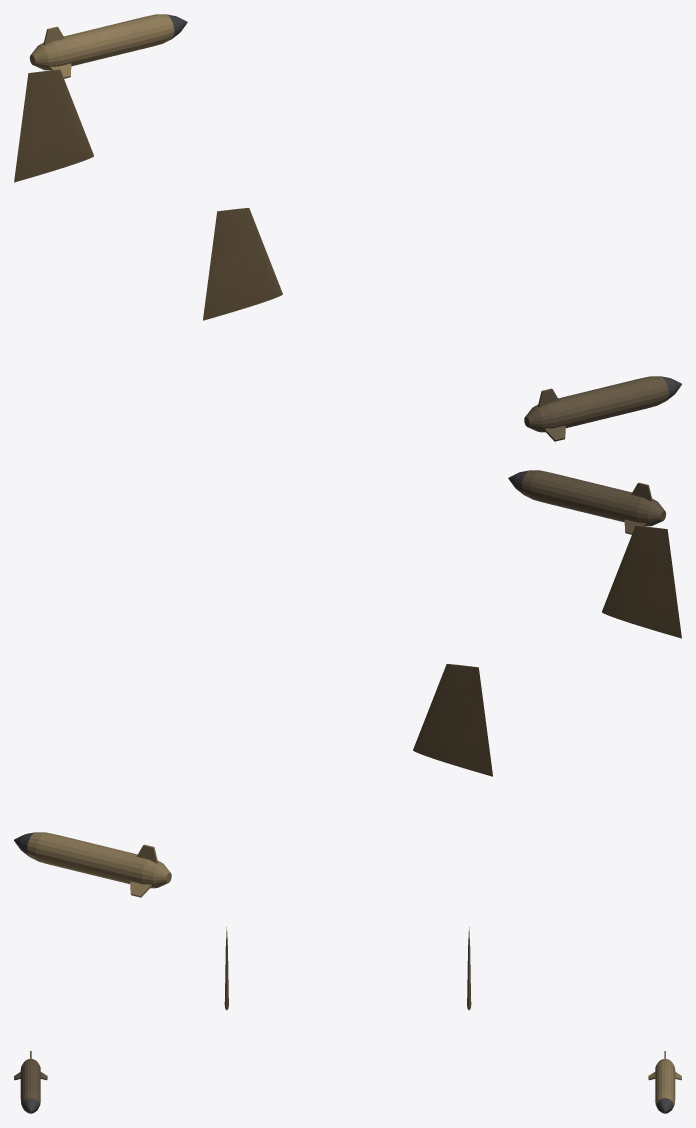
Rendered from fh_detail_bomber_1.glb.
The picture shows the model from 3 angles, top to bottom: view 1: azimuth 30°, elevation 25°; view 2: azimuth 150°, elevation 25°; view 3: azimuth 270°, elevation 25°; orthographic projection. The views are drawn at different scales.
Parts seen in each view (by area): view 1: endplate_l, endplate_r, tip_tank_r, tip_tank_l; view 2: endplate_r, endplate_l, tip_tank_l, tip_tank_r; view 3: tip_tank_l, tip_tank_r.
Part boxes in pixels (left/top/right/bottom): endplate_l: left=14, top=69, right=93, bottom=182; endplate_r: left=203, top=208, right=282, bottom=320; tip_tank_r: left=524, top=376, right=681, bottom=441; tip_tank_l: left=29, top=14, right=187, bottom=78; endplate_r: left=602, top=525, right=681, bottom=638; endplate_l: left=413, top=664, right=492, bottom=776; tip_tank_l: left=14, top=832, right=171, bottom=897; tip_tank_r: left=508, top=470, right=666, bottom=534; tip_tank_l: left=648, top=1051, right=681, bottom=1113; tip_tank_r: left=14, top=1051, right=47, bottom=1113.
Size of the model in its own units: 0.3864 by 0.1714 by 1.07.
